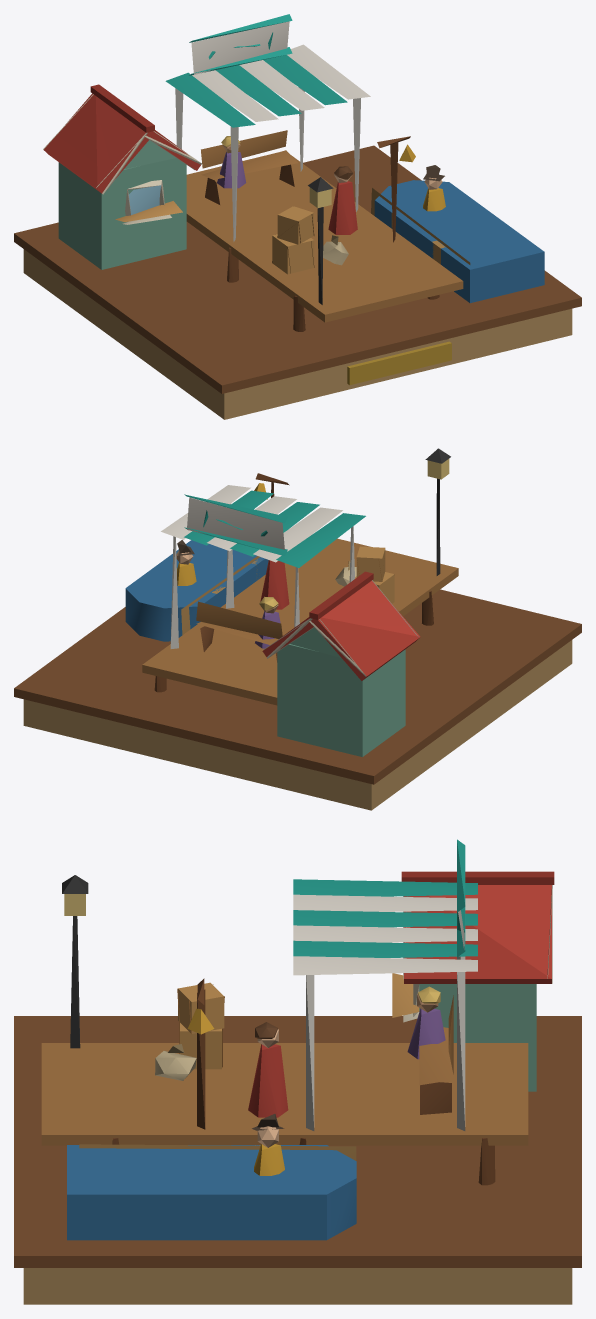
The model's file is ferry_landing_souvenir.glb.
The picture shows the model from 3 angles, top to bottom: view 1: azimuth 30°, elevation 25°; view 2: azimuth 150°, elevation 25°; view 3: azimuth 270°, elevation 25°; orthographic projection. The views are drawn at different scales.
Visible parts, largest first — view 1: decor-ferry_landing_souvenir; view 2: decor-ferry_landing_souvenir; view 3: decor-ferry_landing_souvenir.
Part boxes in pixels (x1,y1,x2,y2): decor-ferry_landing_souvenir: (14,14,581,419); decor-ferry_landing_souvenir: (14,448,581,810); decor-ferry_landing_souvenir: (14,839,581,1304).
Size of the model in its own units: 1.76 by 1.08 by 1.76.
